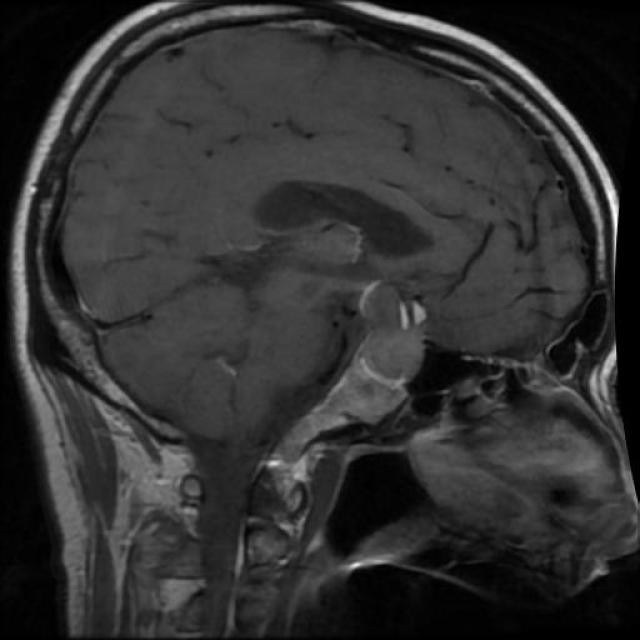pituitary: (313, 262, 435, 426)
